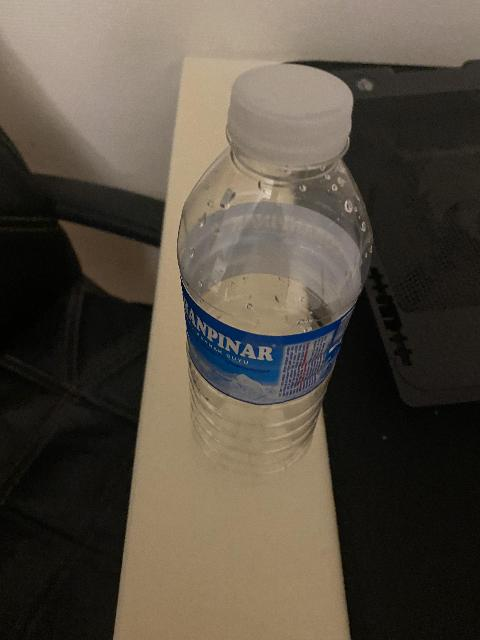Plastik: (170, 68, 383, 475), (240, 67, 343, 143)
